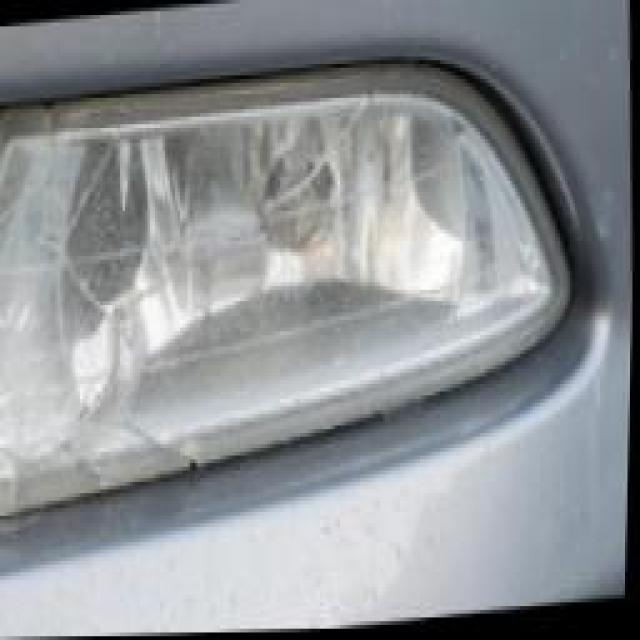Light: (0, 49, 551, 496)
